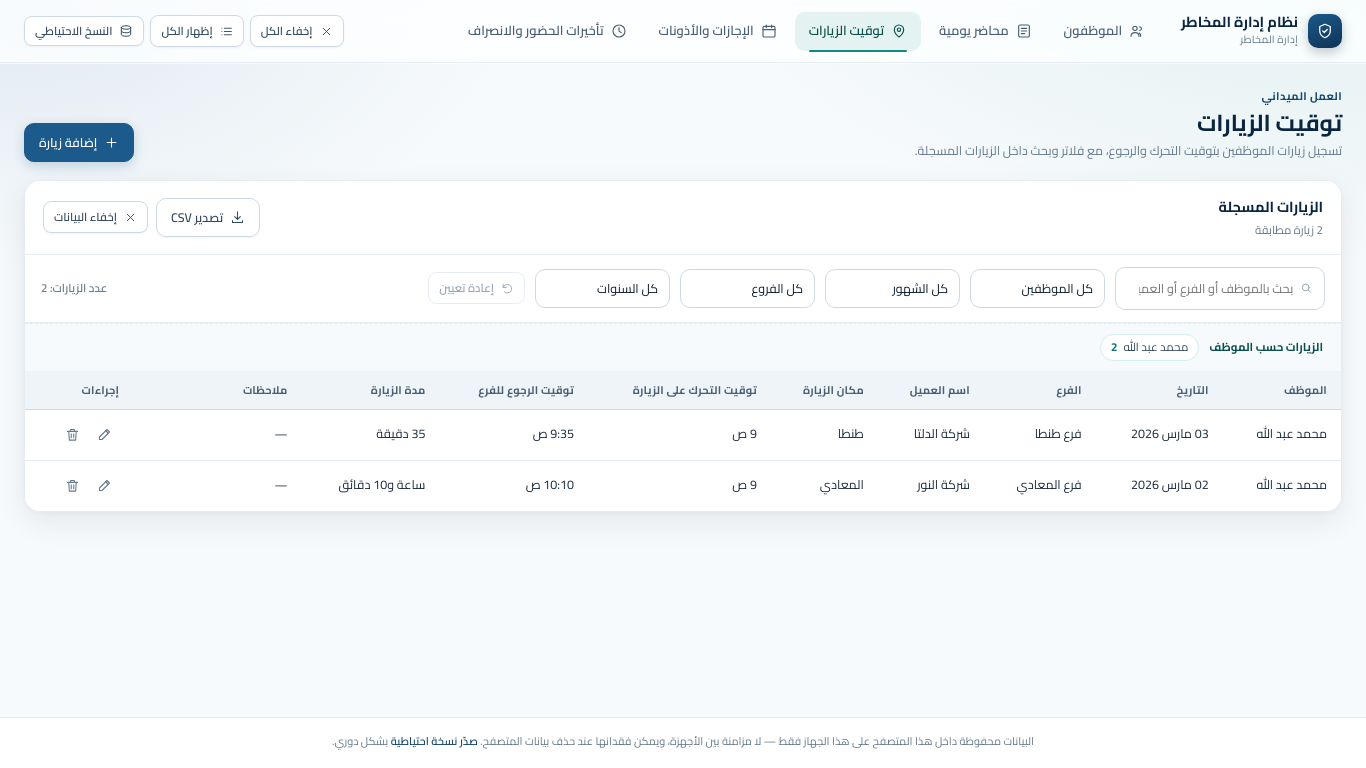
Test: إخفاء القائمة مع بقاء الفلاتر › توقيت الزيارات: الفلاتر تبقى ظاهرة وتعمل والقائمة مخفية ثم تُعرض النتائج المفلترة
Check: the text "شركة النور" is shown, box [878,461,984,511]
Click the button "إخفاء البيانات": (95, 217) [43,201,148,233]
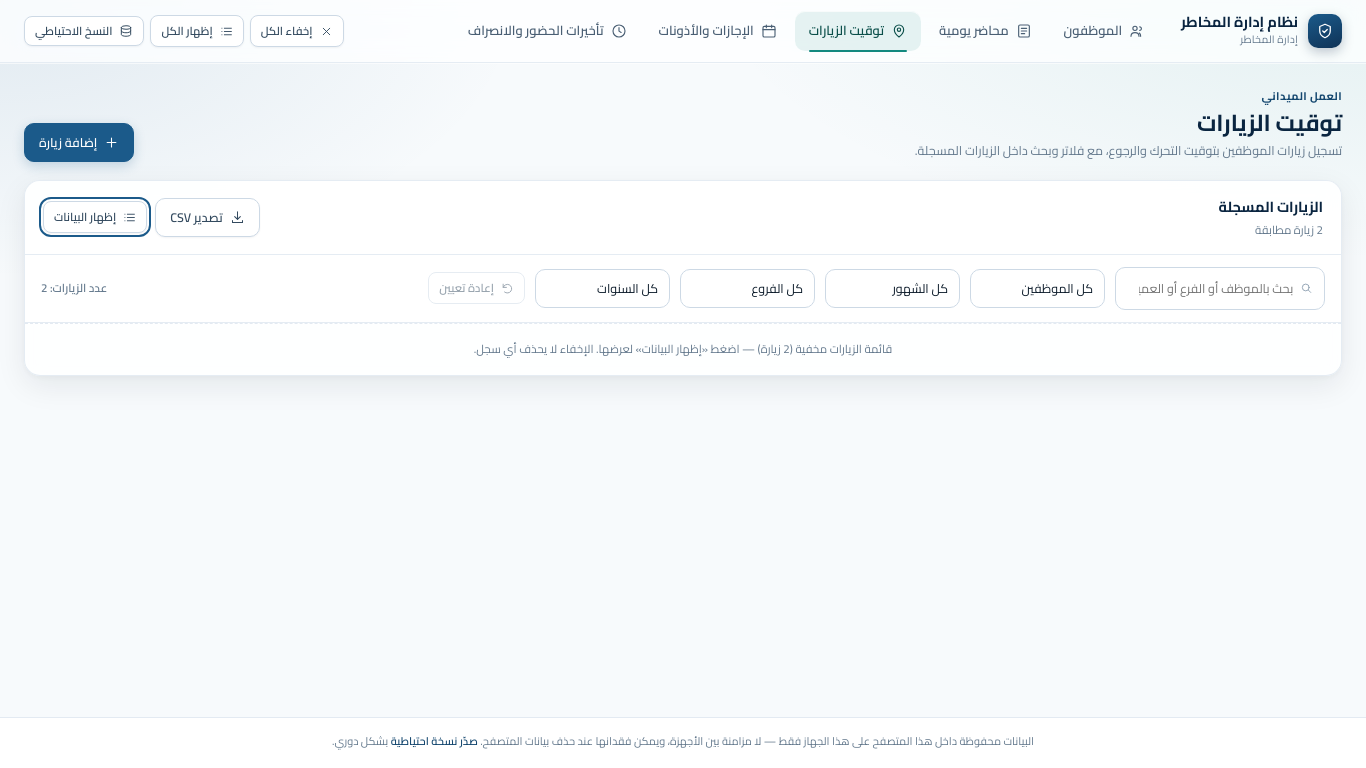
Check: the text "شركة النور" is gone
Select "فرع طنطا" in the dropdown named "الفرع في الزيارات": (748, 288) [680,268,815,308]
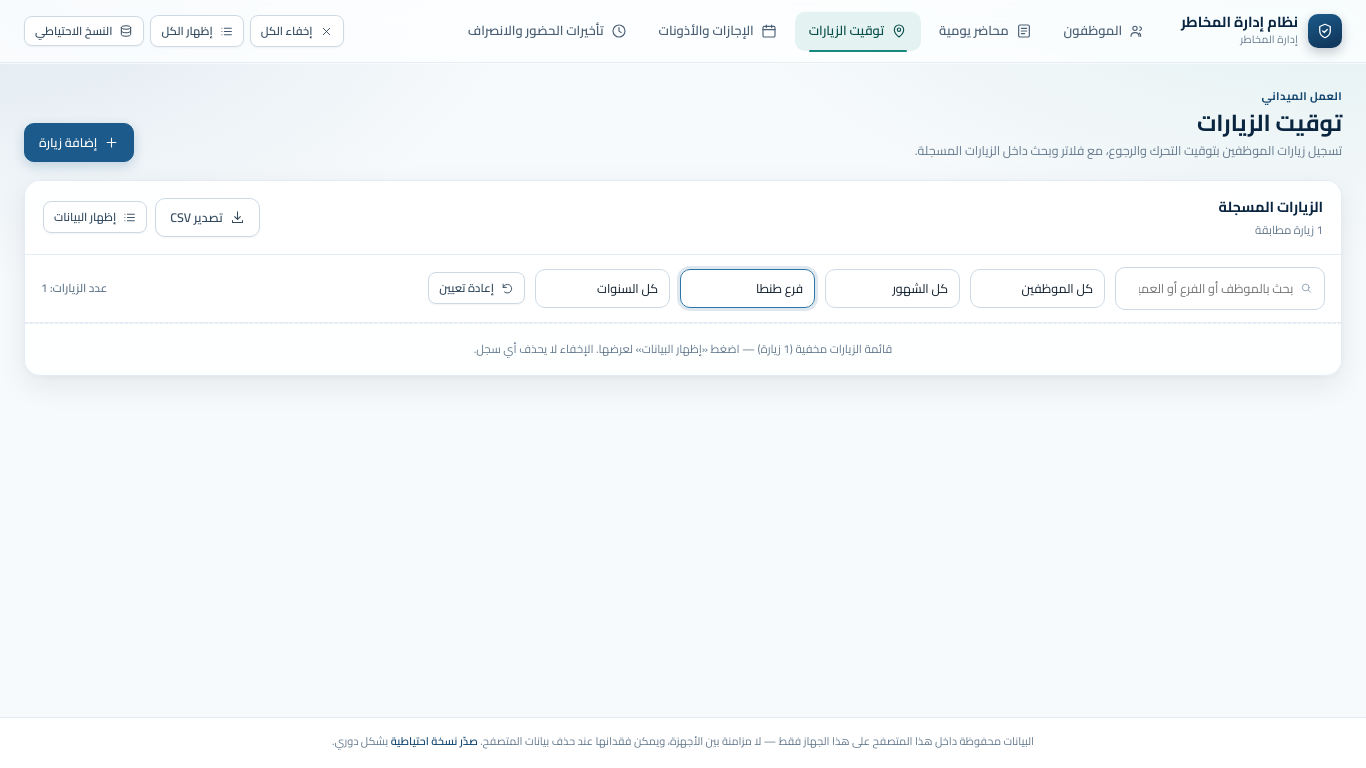
Check: the dropdown named "شهر الزيارة" is shown, box [825,268,960,308]
Check: the text with test id "visit-count-total" shows "1", box [41,277,47,299]
عند الإظهار تُعرض النتائج المفلترة فقط
Click the button "إظهار البيانات": (95, 217) [43,201,147,233]
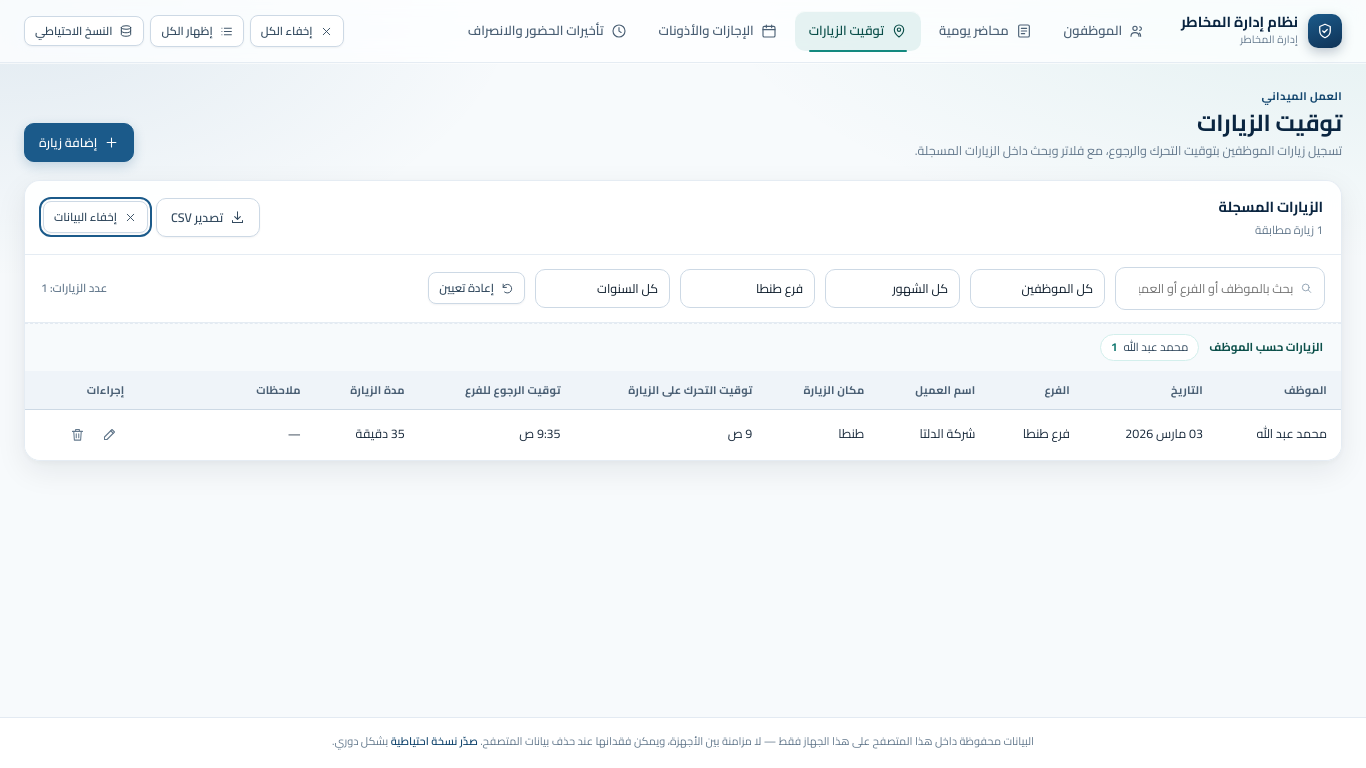
Check: the text "شركة النور" is not shown
Check: the text "شركة الدلتا" is shown, box [878,410,989,460]
